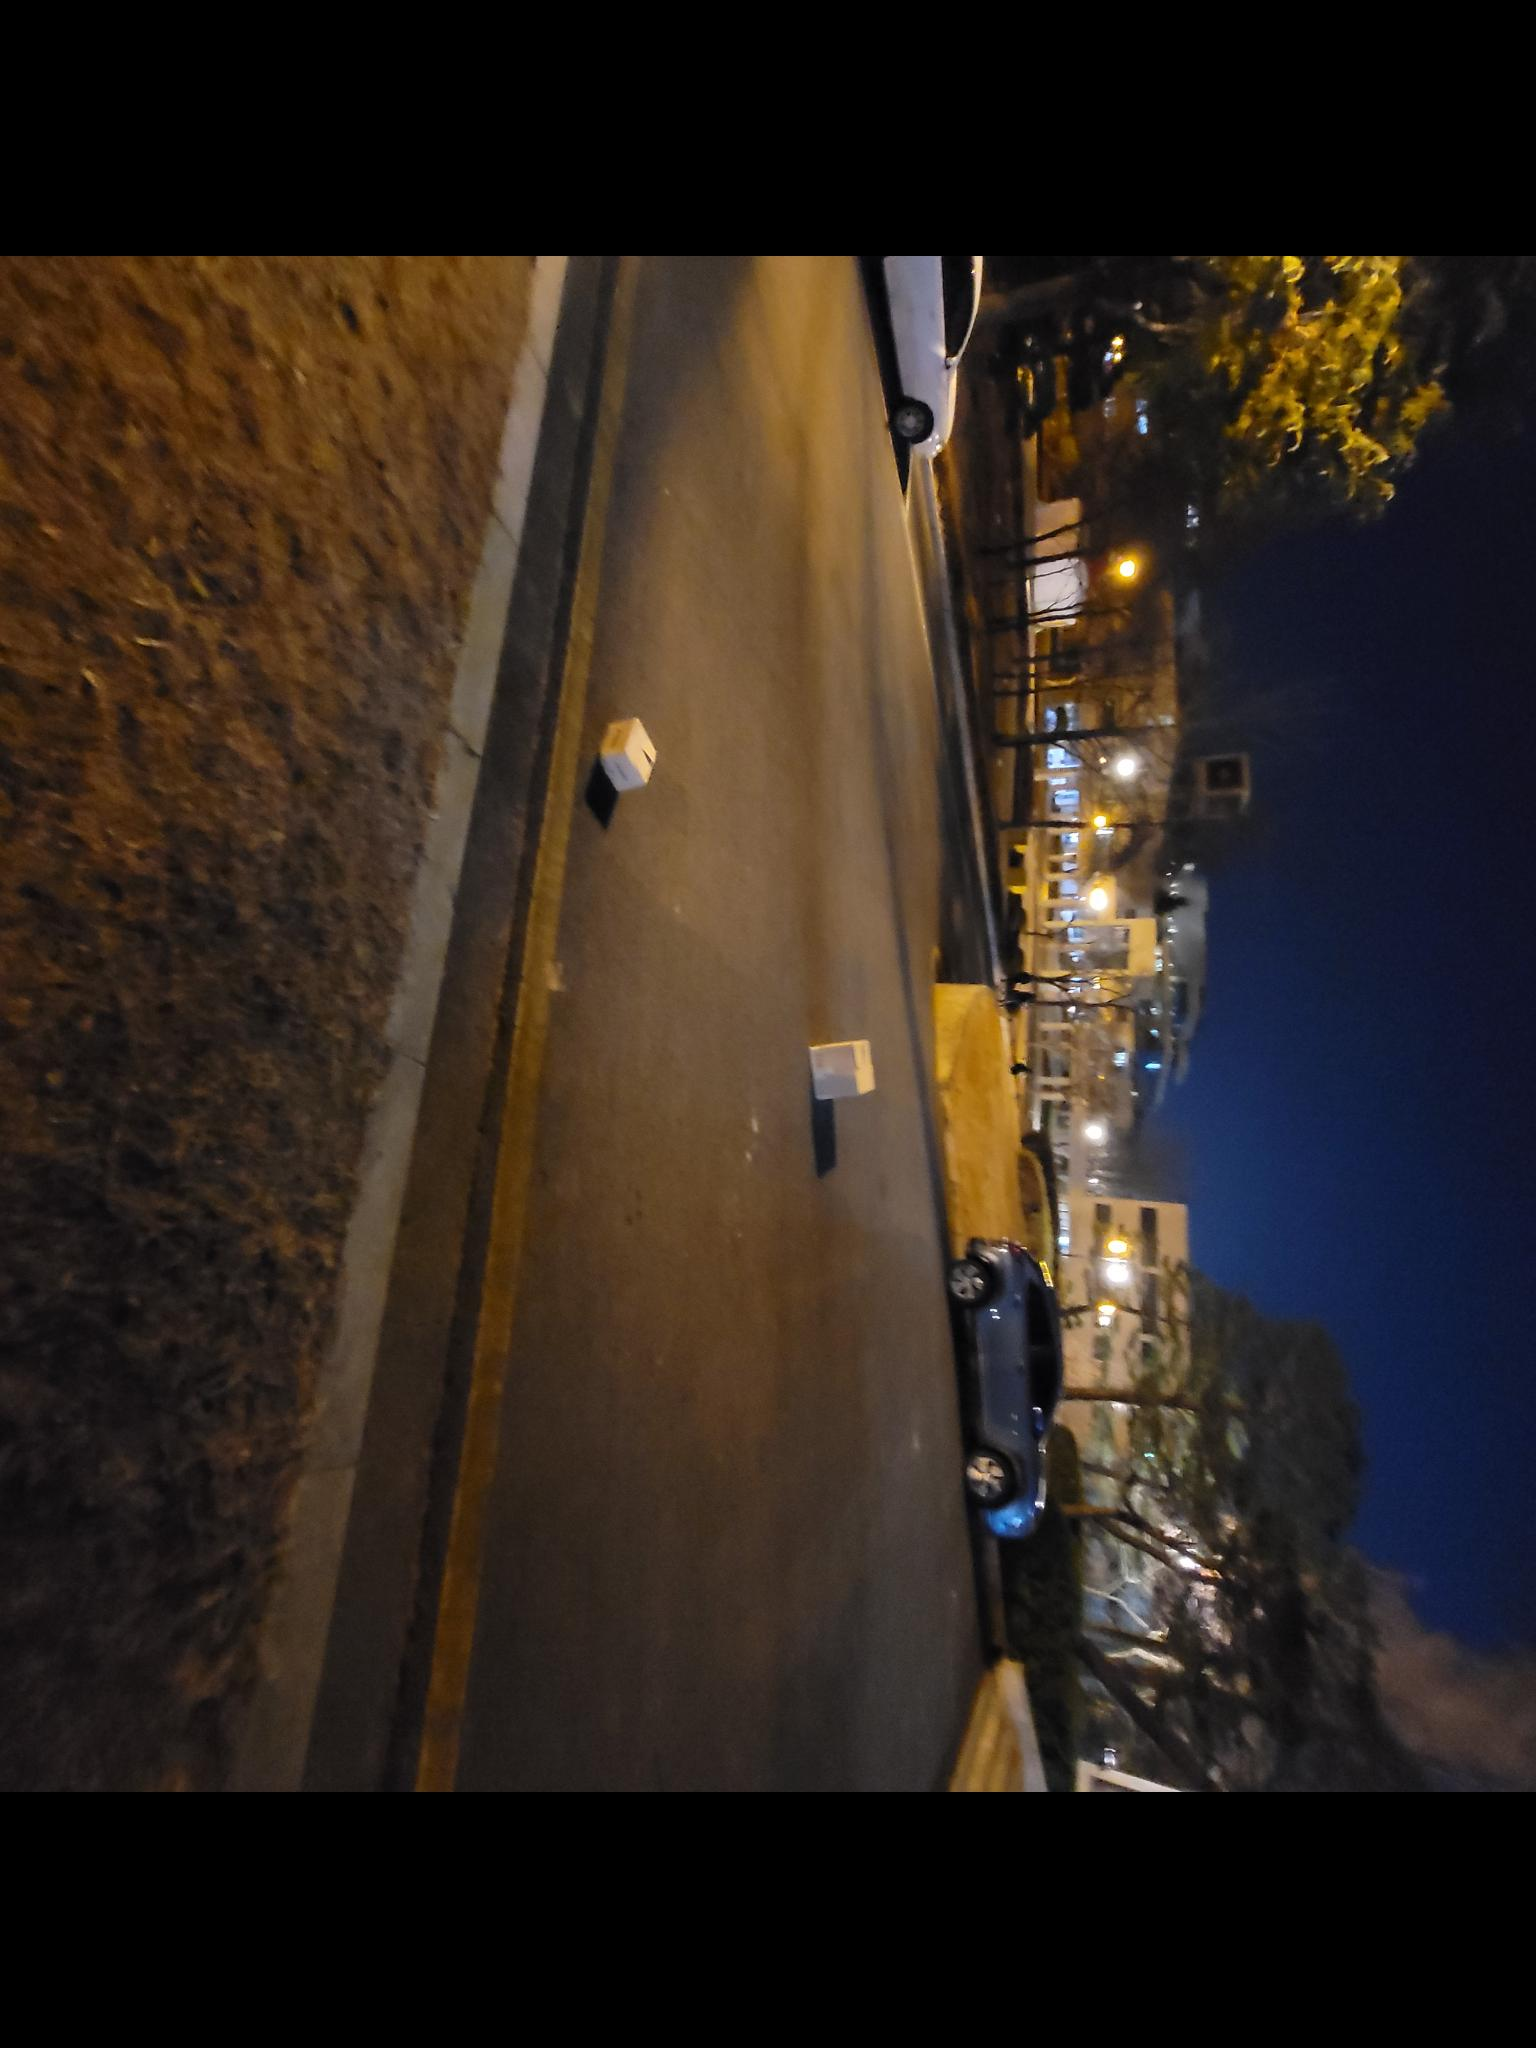Box: (599, 705, 663, 798), (807, 1034, 881, 1109)
